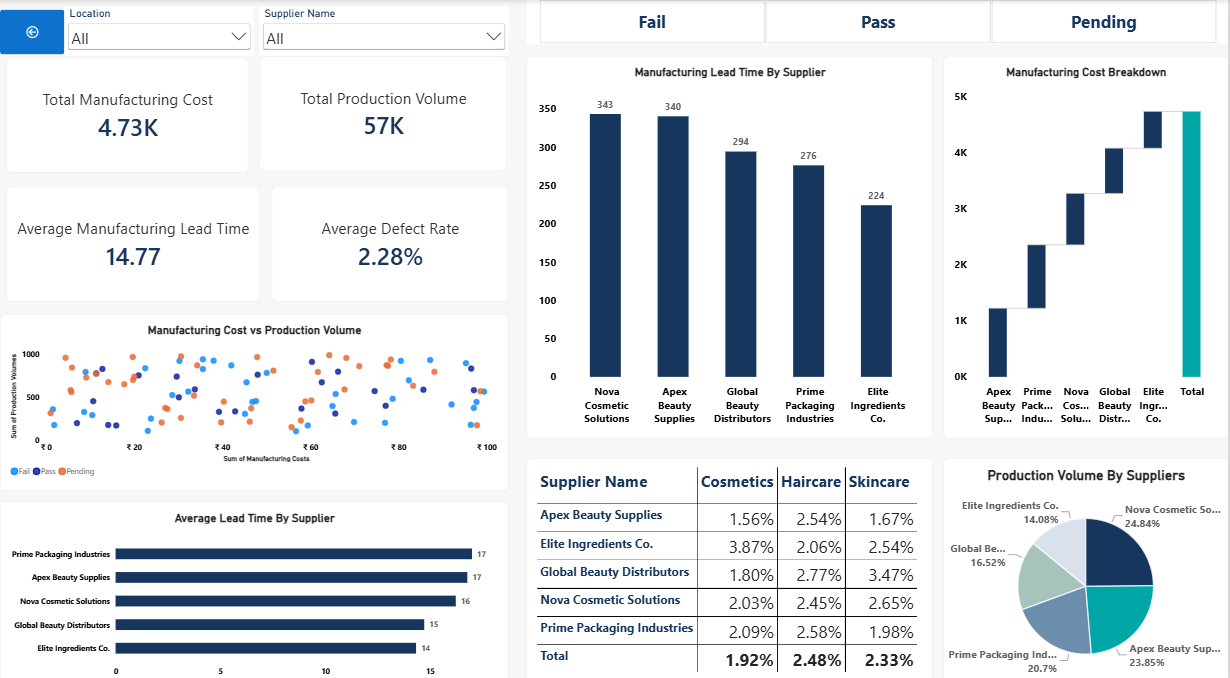

This screenshot's page, from the dashboard's own definition file:
{"tool":"powerbi","page":{"name":"Supplier & Manufacturing Analysis","canvas":[1920,1080],"ordinal":2},"visuals":[{"type":"cardVisual","fields":{"Data":["Supply_Chain_Data.Total Manufacturing Cost"]},"box":[9.4,91.4,379.8,180.5],"z":0},{"type":"cardVisual","fields":{"Data":["Supply_Chain_Data.Average Manufacturing Lead Time"]},"box":[9.4,293.1,396.2,180.5],"z":1000},{"type":"cardVisual","fields":{"Data":["Supply_Chain_Data.Total Production"]},"box":[405.6,89.1,386.8,180.5],"z":2000},{"type":"cardVisual","fields":{"Data":["Supply_Chain_Data.Average Defect Rate"]},"box":[424.4,293.1,370.4,180.5],"z":3000},{"type":"slicer","fields":{"Values":["Supply_Chain_Data.Location"]},"box":[100.8,11.7,295.4,77.4],"z":4000},{"type":"slicer","fields":{"Values":["Supply_Chain_Data.Inspection Results"]},"box":[822.9,0,1097.2,70.3],"z":5000},{"type":"slicer","fields":{"Values":["Supply_Chain_Data.Supplier Name"]},"box":[405.6,11.7,389.2,77.4],"z":6000},{"type":"clusteredBarChart","title":"Average Lead Time By Supplier","fields":{"Category":["Supply_Chain_Data.Supplier Name"],"Y":["Supply_Chain_Data.Average Lead Time A"]},"box":[0,785.4,794.8,295.4],"z":7000},{"type":"scatterChart","title":"Manufacturing Cost vs Production Volume","fields":{"Category":["Supply_Chain_Data.SKU"],"Series":["Supply_Chain_Data.Inspection Results"],"X":["Sum(Supply_Chain_Data.Manufacturing Costs)"],"Y":["Sum(Supply_Chain_Data.Production Volumes)"]},"box":[0,492.3,794.8,276.6],"z":8000},{"type":"pivotTable","fields":{"Columns":["Supply_Chain_Data.Product type"],"Rows":["Supply_Chain_Data.Supplier Name"],"Values":["Supply_Chain_Data.Average Defect Rate"]},"box":[822.9,717.4,635.4,363.4],"z":9000},{"type":"clusteredColumnChart","title":"Manufacturing Lead Time By Supplier","fields":{"Category":["Supply_Chain_Data.Supplier Name"],"Y":["Sum(Supply_Chain_Data.Manufacturing Lead Time (Days))"]},"box":[822.9,89.1,635.4,597.8],"z":10000},{"type":"waterfallChart","title":"Manufacturing Cost Breakdown","fields":{"Category":["Supply_Chain_Data.Supplier Name"],"Y":["Supply_Chain_Data.Total Manufacturing Cost"]},"box":[1474.7,89.1,445.5,597.8],"z":11000},{"type":"pieChart","title":"Production Volume By Suppliers","fields":{"Category":["Supply_Chain_Data.Supplier Name"],"Y":["Supply_Chain_Data.Total Production"]},"box":[1475,717,445,363],"z":12000},{"type":"actionButton","box":[0,16.4,100.8,70.3],"z":13000}]}

Visuals, with their boxes in screenshot pixels (x1, y1, x2, y2), scaled from the page's 1920x1080 canvas onto the 1230x678 screenshot:
cardVisual - Supply_Chain_Data.Total Manufacturing Cost: <bbox>6, 57, 249, 171</bbox>
cardVisual - Supply_Chain_Data.Average Manufacturing Lead Time: <bbox>6, 184, 260, 297</bbox>
cardVisual - Supply_Chain_Data.Total Production: <bbox>260, 56, 508, 169</bbox>
cardVisual - Supply_Chain_Data.Average Defect Rate: <bbox>272, 184, 509, 297</bbox>
slicer - Supply_Chain_Data.Location: <bbox>65, 7, 254, 56</bbox>
slicer - Supply_Chain_Data.Inspection Results: <bbox>527, 0, 1229, 44</bbox>
slicer - Supply_Chain_Data.Supplier Name: <bbox>260, 7, 509, 56</bbox>
"Average Lead Time By Supplier" clusteredBarChart: <bbox>0, 493, 509, 677</bbox>
"Manufacturing Cost vs Production Volume" scatterChart: <bbox>0, 309, 509, 483</bbox>
pivotTable - Supply_Chain_Data.Product type x Supply_Chain_Data.Supplier Name: <bbox>527, 450, 934, 677</bbox>
"Manufacturing Lead Time By Supplier" clusteredColumnChart: <bbox>527, 56, 934, 431</bbox>
"Manufacturing Cost Breakdown" waterfallChart: <bbox>945, 56, 1229, 431</bbox>
"Production Volume By Suppliers" pieChart: <bbox>945, 450, 1229, 677</bbox>
actionButton: <bbox>0, 10, 65, 54</bbox>
